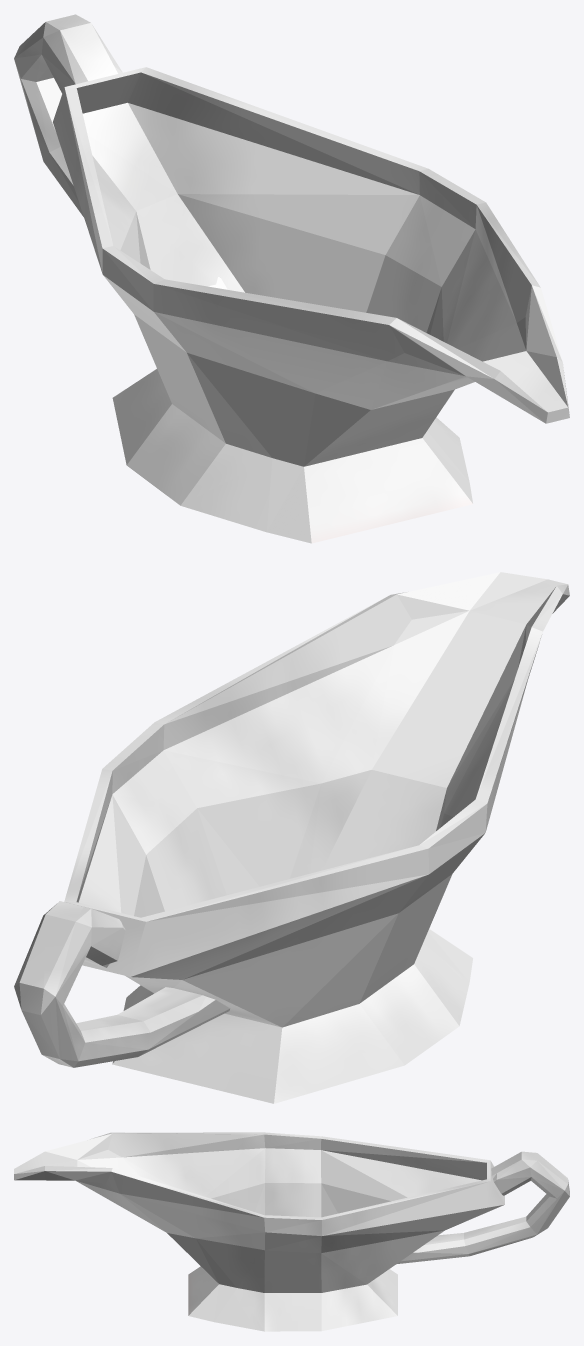
File: GravyBoat.fbx
3 renders of one model, top to bottom at view 1: azimuth 30°, elevation 25°; view 2: azimuth 150°, elevation 25°; view 3: azimuth 270°, elevation 25°, orthographic. The views are drawn at different scales.
Parts seen in each view (by area): view 1: Circle; view 2: Circle; view 3: Circle.
Part boxes in pixels (bbox=[...]): Circle: bbox=[14, 14, 569, 543]; Circle: bbox=[14, 572, 569, 1103]; Circle: bbox=[14, 1132, 569, 1331].
Size of the model in its own units: 0.1825 by 0.145 by 0.5021.
